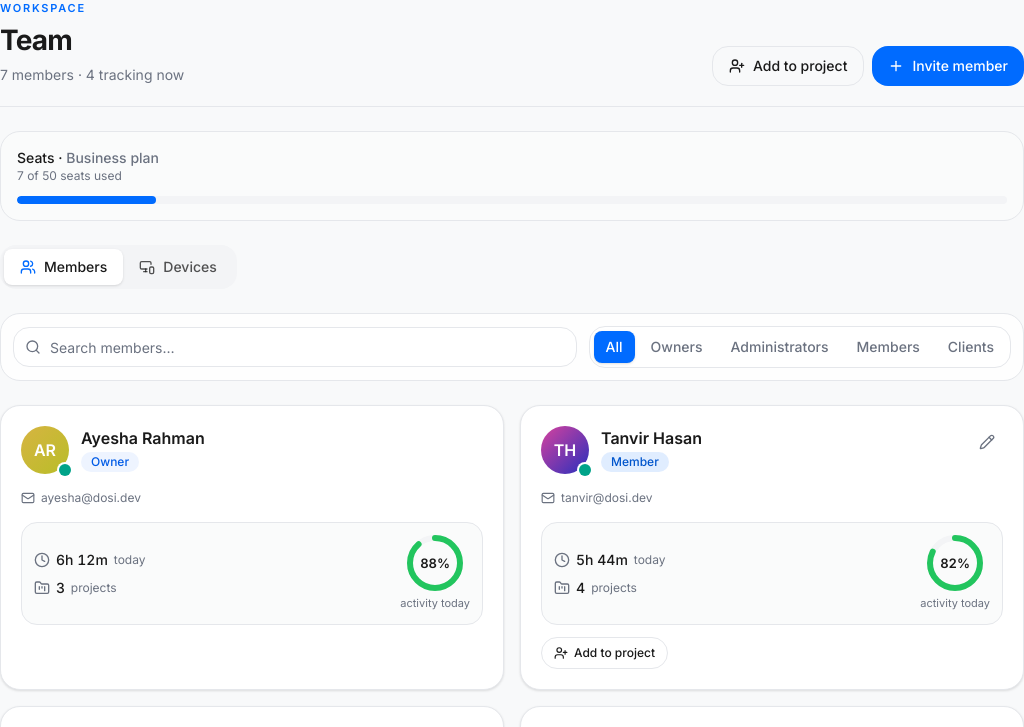
Test: team page — sending invites (demo mode) › submitting emails shows the sent confirmation without hitting the network
The width and height of the screenshot is (1024, 727).
Click the button "Invite member". click: (948, 66)
box: x1=872 y1=46 x2=1023 y2=86
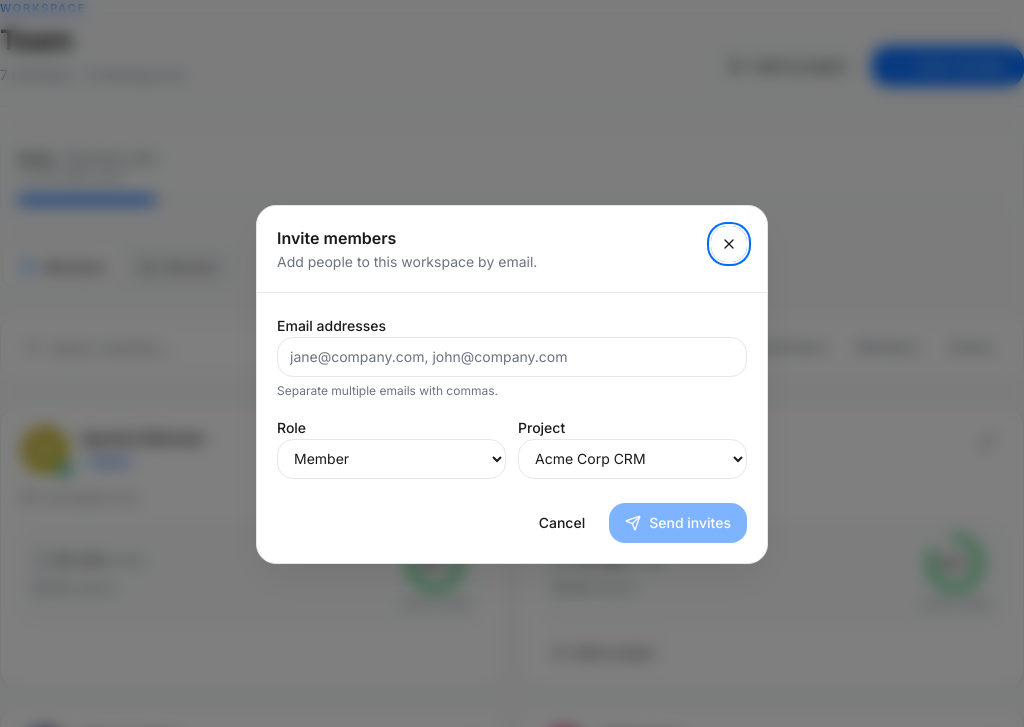
Type "jane@company.dev" into the field with placeholder "jane@company.com, john@company.com". click: (512, 356)
box: x1=277 y1=336 x2=747 y2=376
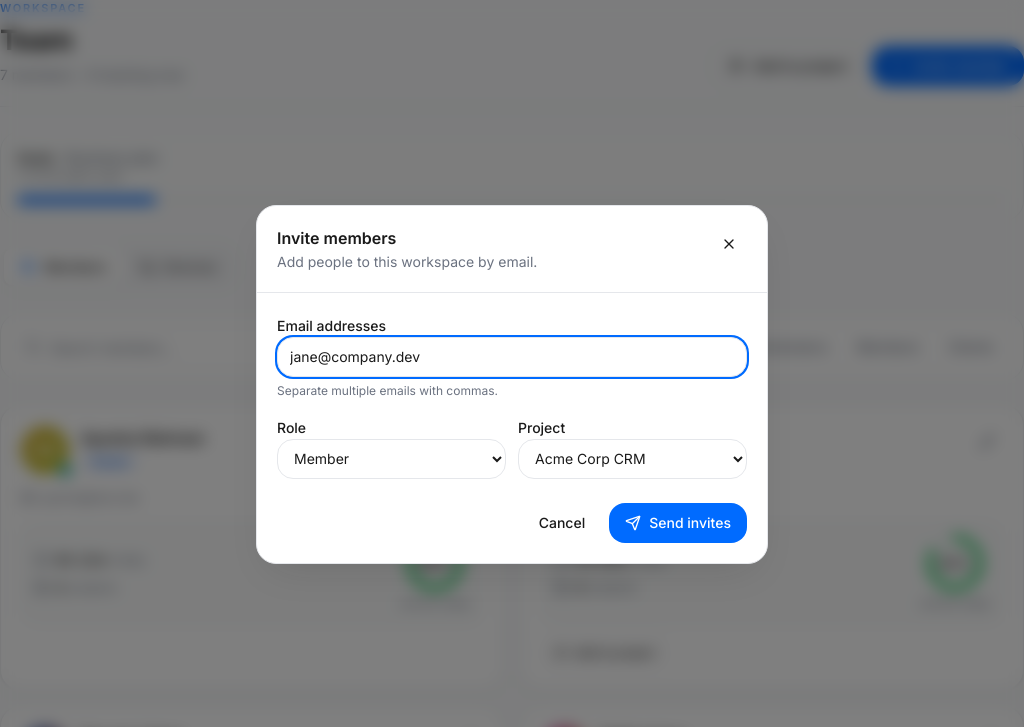
Click the button "Send invites". click: (678, 522)
box: x1=609 y1=502 x2=747 y2=542
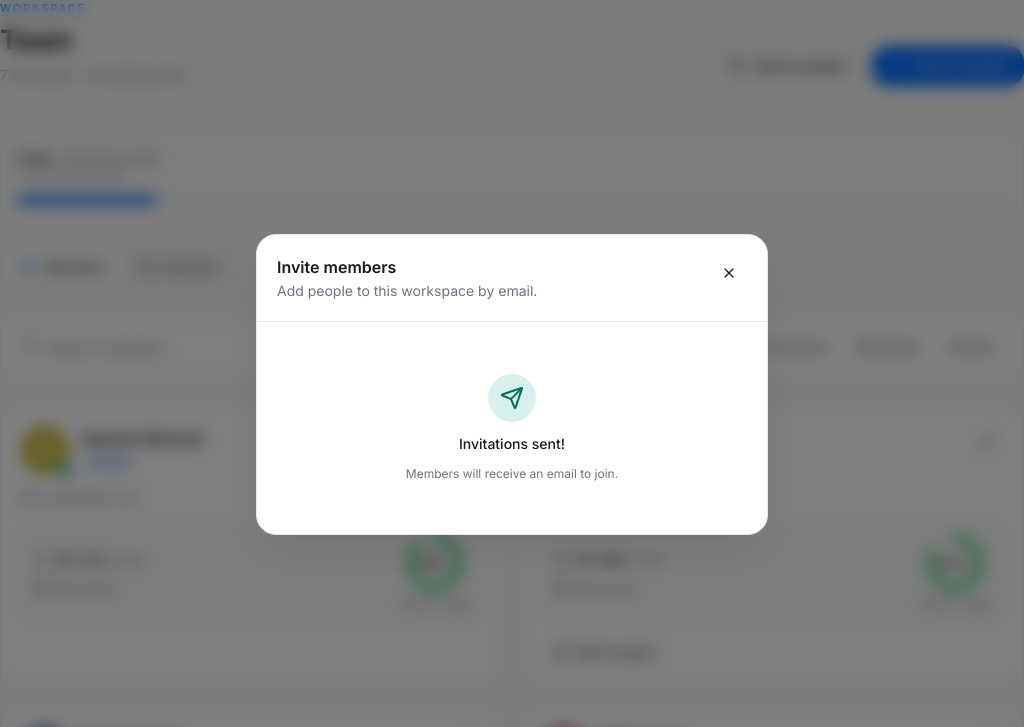
Expected: the text "Invitations sent!" is shown, x1=459 y1=434 x2=565 y2=454
